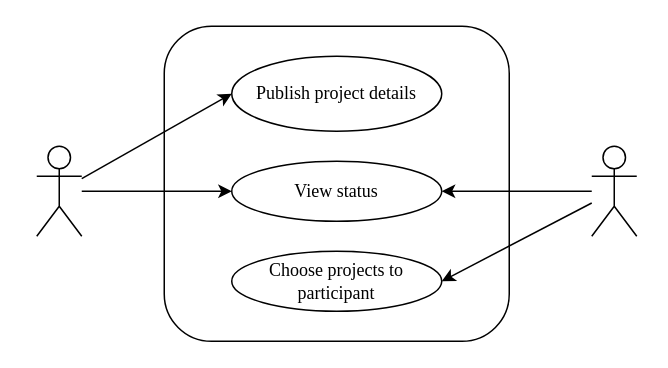
Some shapes in this 668 by 368 pixel diagram are drawn without their labels. Each missing label, with the centre of its shape:
Professor: pixel 58 190
Student: pixel 613 190
